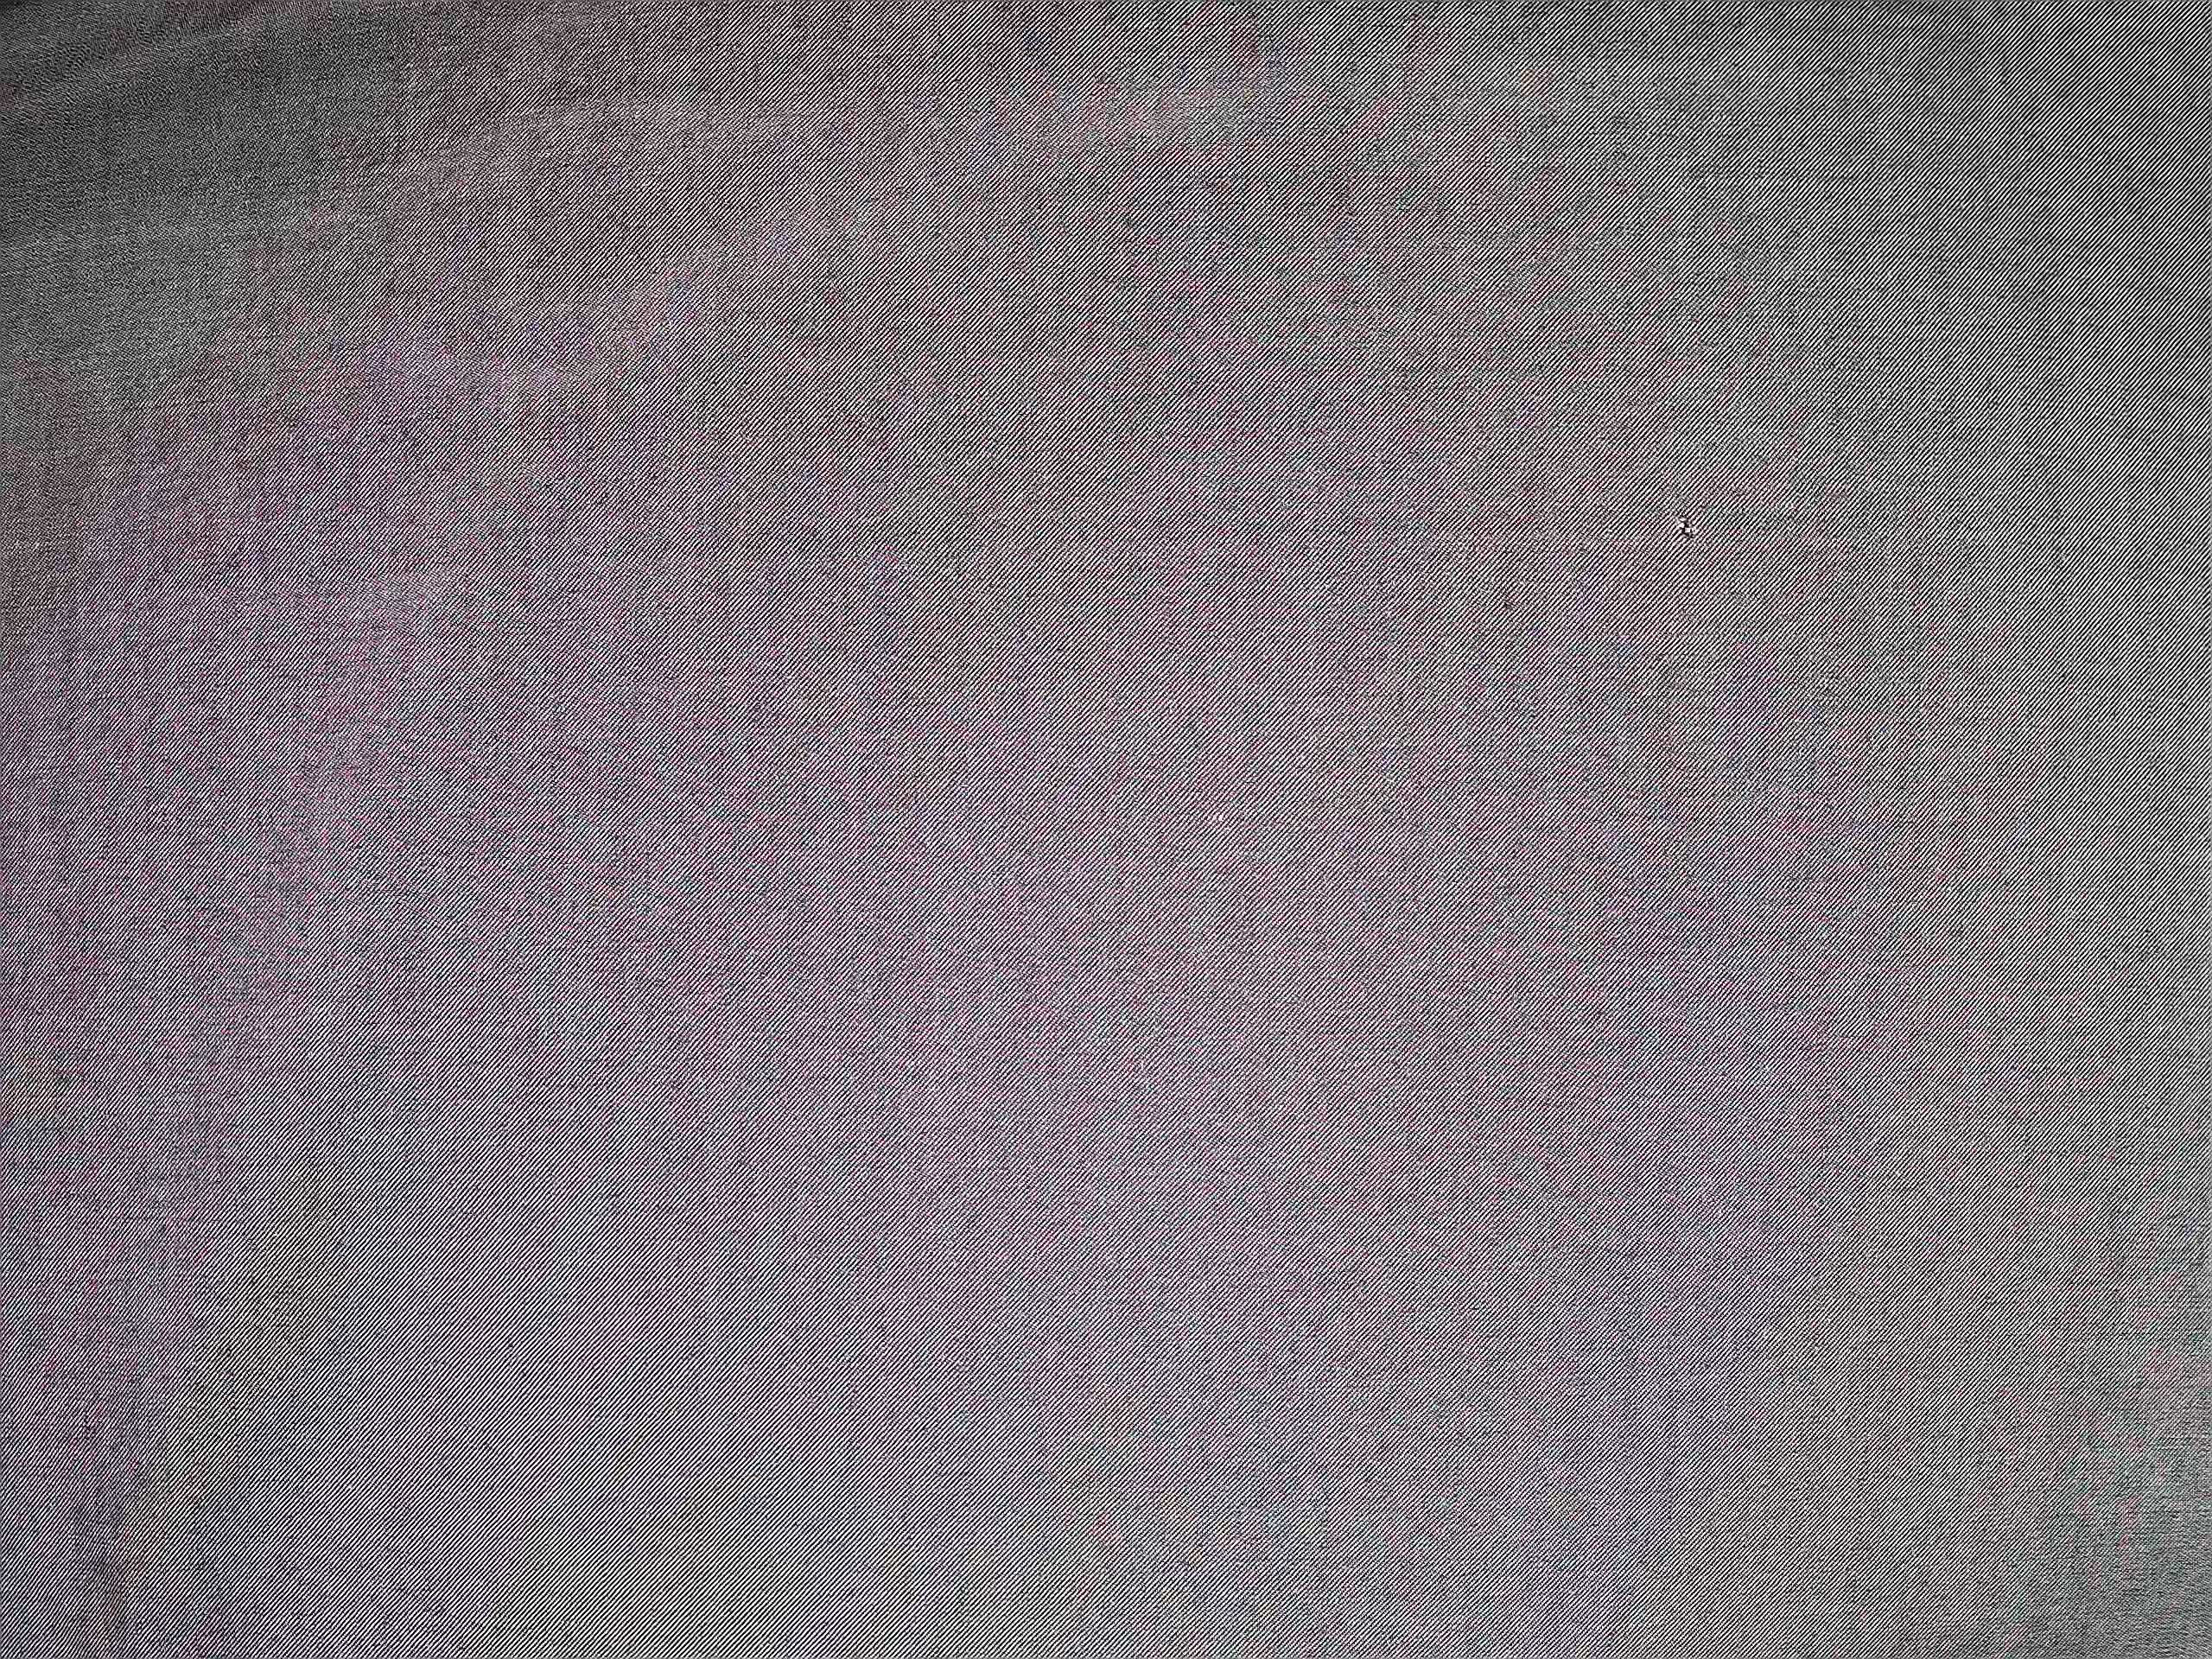rubbing-hole: (1669, 502, 1707, 556)
